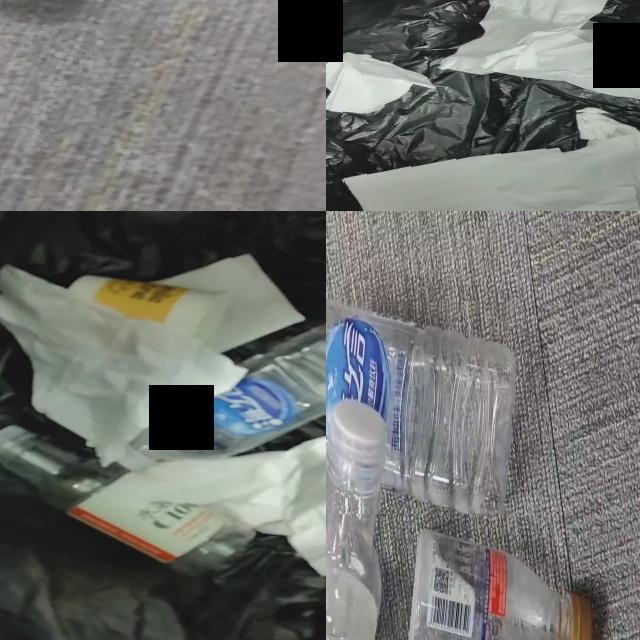bottle: (326, 303, 515, 514), (0, 426, 254, 574), (118, 325, 326, 470), (409, 530, 592, 640), (326, 397, 386, 640)
dixie_cup: (67, 276, 227, 342)
paper: (0, 268, 246, 466), (343, 112, 640, 211), (117, 436, 326, 576), (440, 0, 640, 99), (157, 254, 305, 352), (326, 53, 434, 115)
